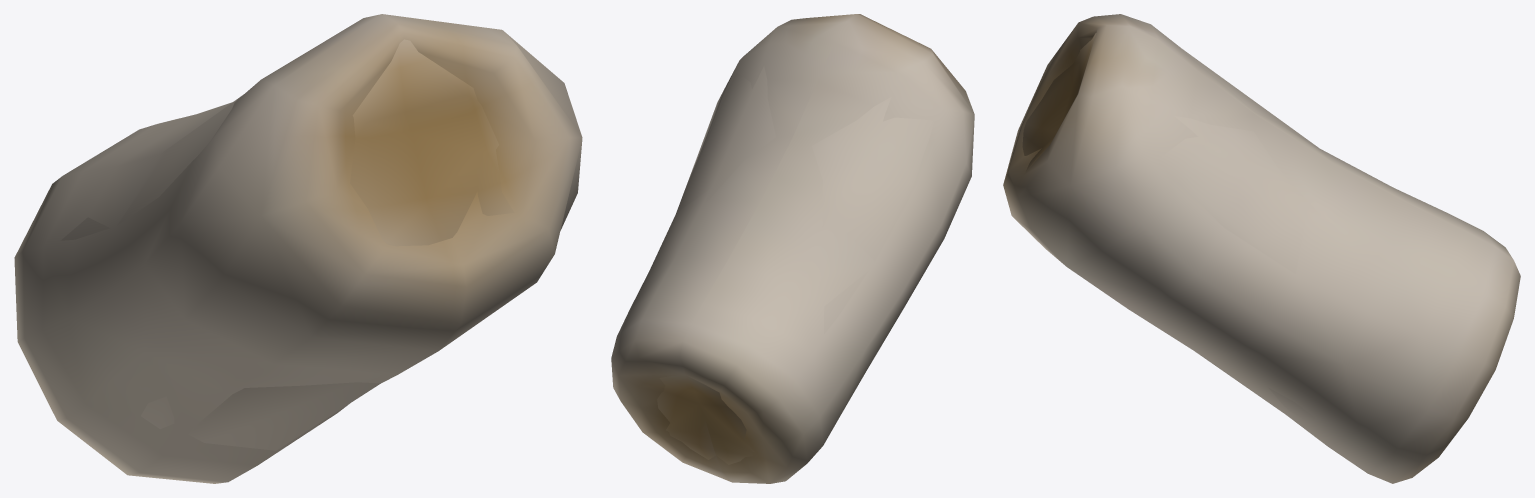
The model's file is vertebrae caudales 11.fbx.
3 renders of one model, left to right at view 1: azimuth 30°, elevation 25°; view 2: azimuth 150°, elevation 25°; view 3: azimuth 270°, elevation 25°, orthographic. The views are drawn at different scales.
Parts seen in each view (by area): view 1: vertebrae caudales 11, vertebrae caudales 11 low; view 2: vertebrae caudales 11, vertebrae caudales 11 low; view 3: vertebrae caudales 11, vertebrae caudales 11 low.
Part boxes in pixels (x1,y1,x2,y2): vertebrae caudales 11: (14,14,582,483); vertebrae caudales 11 low: (60,39,514,450); vertebrae caudales 11: (611,14,974,483); vertebrae caudales 11 low: (657,66,933,464); vertebrae caudales 11: (1003,14,1520,483); vertebrae caudales 11 low: (1022,33,1320,422).
Size of the model in its own units: 0.8194 by 1.2 by 1.26.
Materials: 1 (1 with a texture image).
